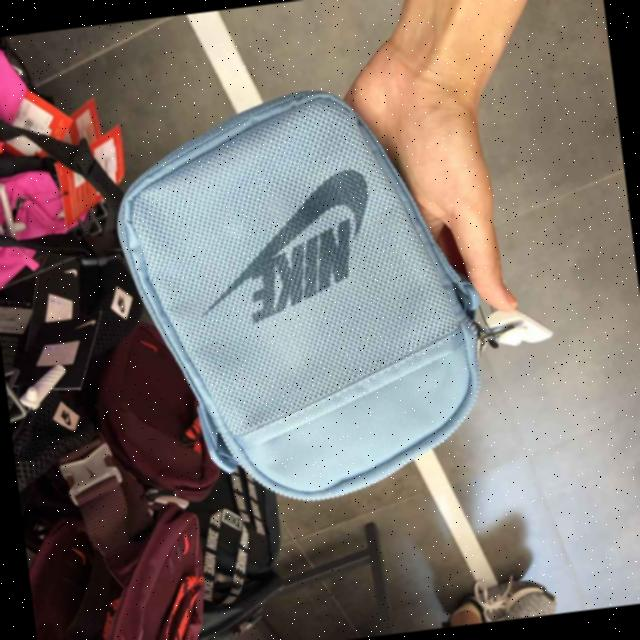Handbag: (100, 72, 502, 520)
